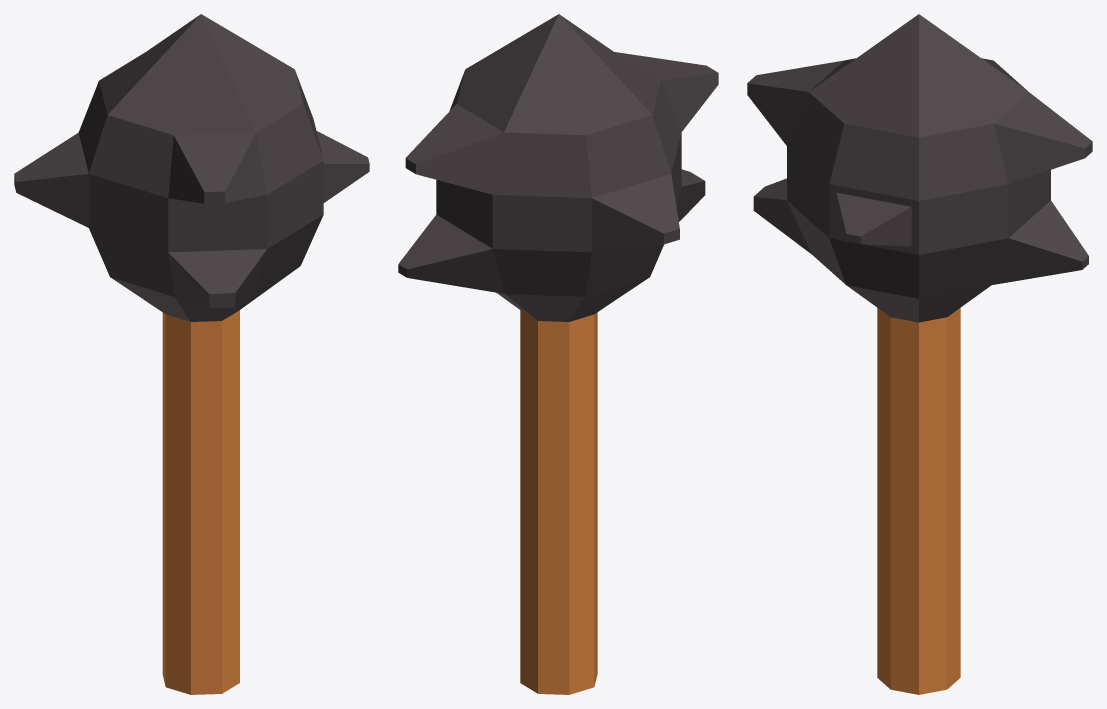
The model's file is iron_warhammer.glb.
3 views of the same model, side by side, from view 1: azimuth 30°, elevation 25°; view 2: azimuth 150°, elevation 25°; view 3: azimuth 270°, elevation 25° (orthographic).
Parts seen in each view (by area): view 1: Cube; view 2: Cube; view 3: Cube.
Boxes of the visible parts, left/top/right/bottom form: Cube: left=14, top=14, right=369, bottom=694; Cube: left=398, top=14, right=718, bottom=694; Cube: left=747, top=14, right=1092, bottom=694.
Bounding box in the file's own units: 1.55 × 3.4 × 1.6.
